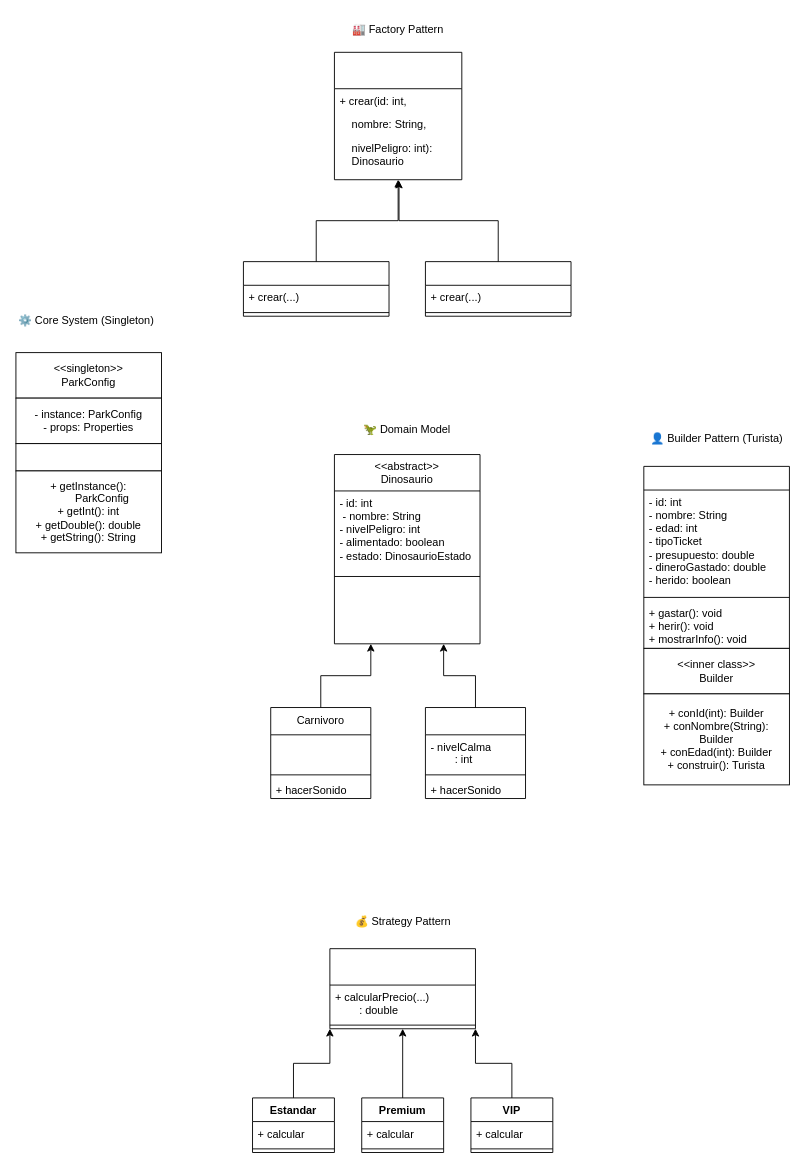
The diagram is 805 pixels wide and 1168 high, and some of its shapes have lost their labels. Each missing label, with the box of its shape:
+ hacerSonido(): String + alimentar(): void + mostrarInfo(): void: (334, 580, 480, 643)
- ParkConfig(): (15, 443, 162, 471)
- poderAtaque : int: (270, 734, 370, 771)
<<interface>> DinosaurioFactory: (334, 51, 462, 180)
<<interface>> PrecioStrategy: (329, 948, 475, 1029)
CarnivoroFactory: (243, 261, 389, 316)
Herviboro: (425, 707, 526, 799)
HerviboroFactory: (425, 261, 571, 316)
Turista: (643, 465, 789, 648)
